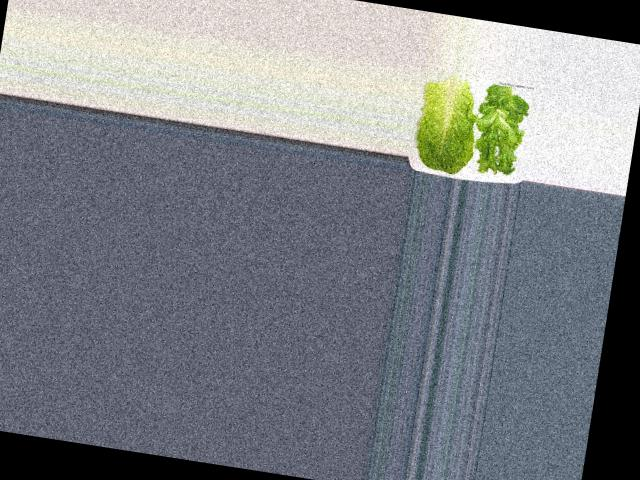lettuce: (471, 85, 536, 179)
